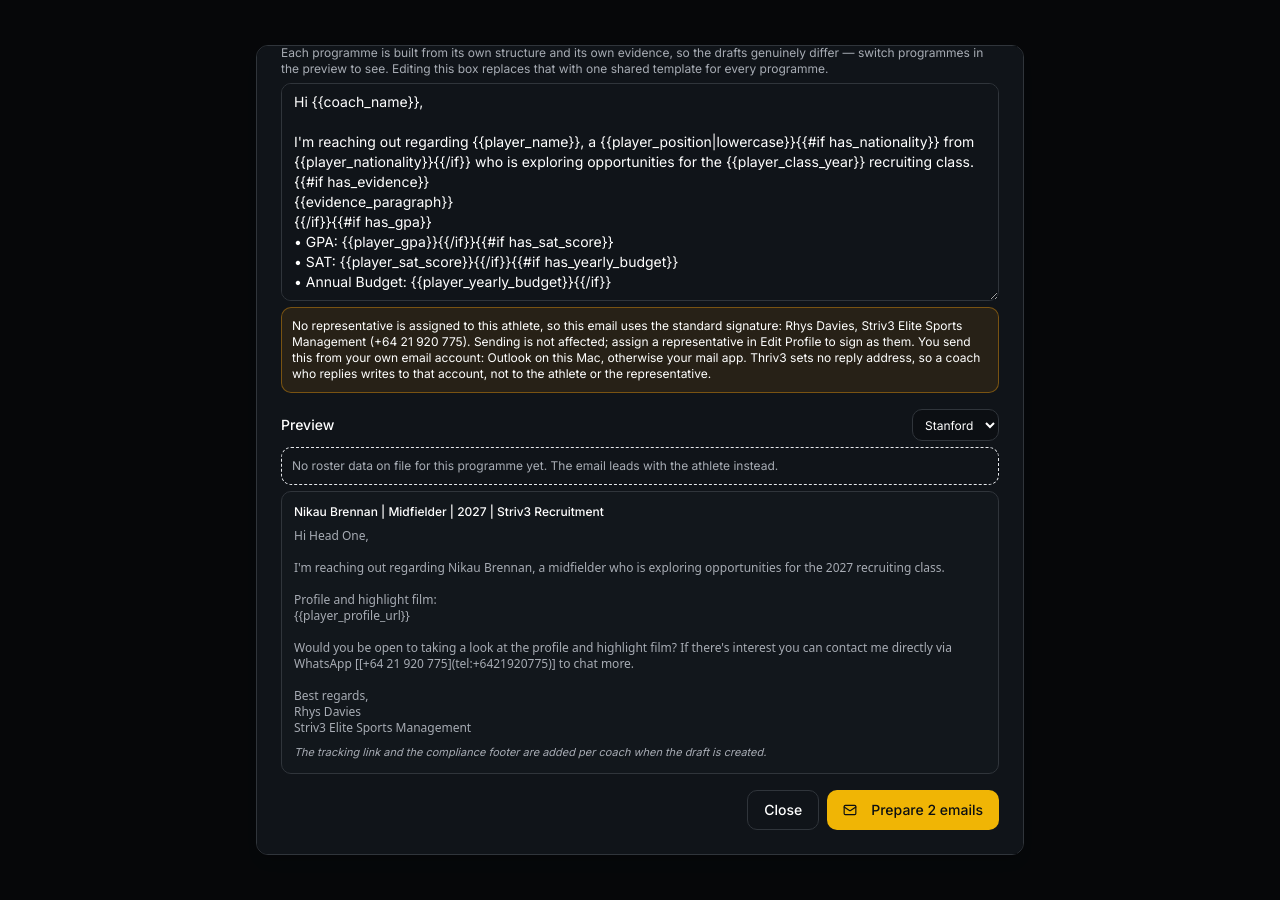
Test: a run where one coach was refused › does not make a refused coach look prepared
(page scrolled)
Click the button "Prepare 2 emails": x=913, y=810 [827, 790, 999, 830]
(page scrolled)
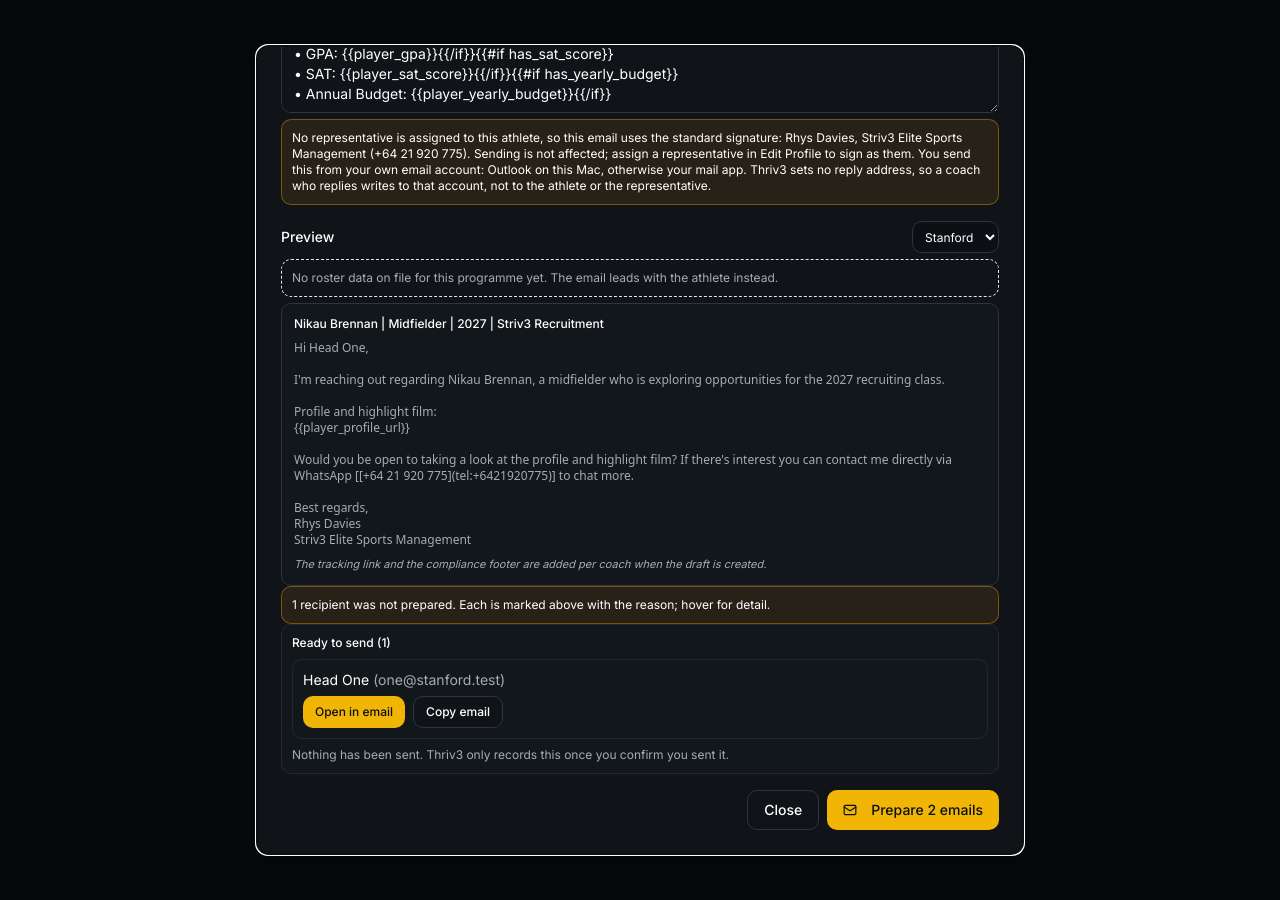
Expected: the element with test id "handoff-row" shows "one@stanford.test", [378, 670, 500, 688]
